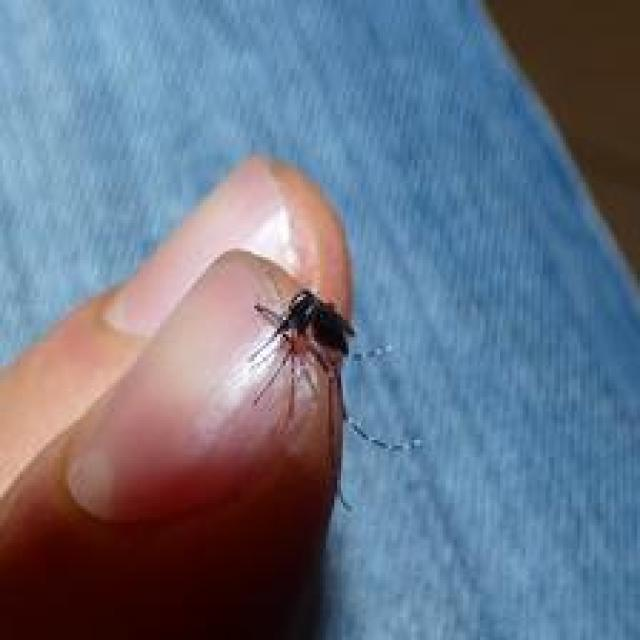Aedes albopictus: (243, 286, 423, 511)
